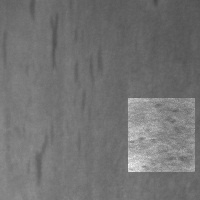inclusion: (69, 44, 108, 114), (28, 119, 58, 186), (42, 8, 65, 74), (25, 1, 36, 24)
rolled-in_scale: (128, 98, 195, 172)
